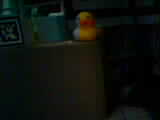duck: (66, 8, 99, 41)
